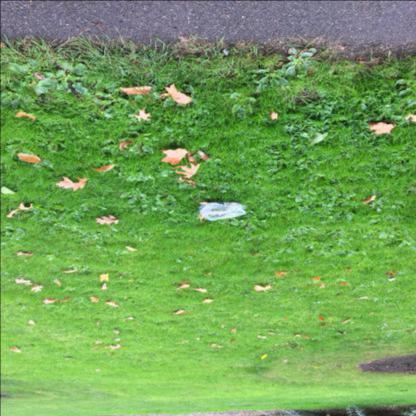Plastic bag - wrapper: (199, 201, 246, 220)
